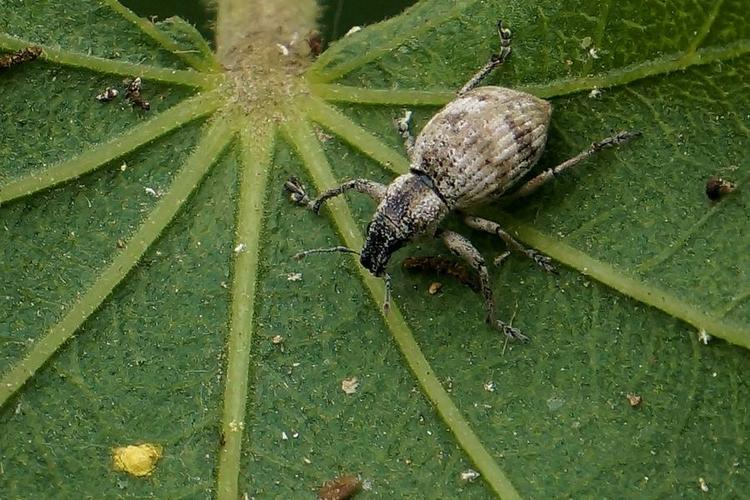Curculionidae: (283, 20, 643, 346)
